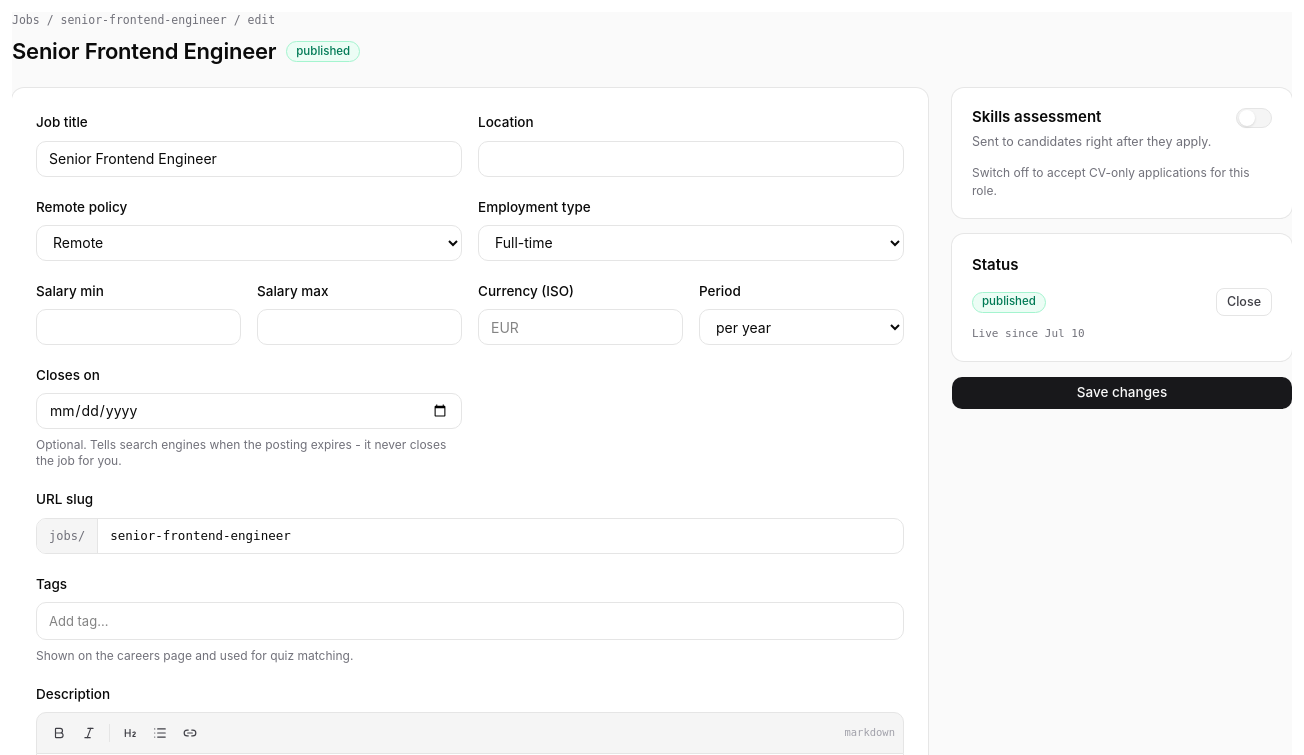
EditJobPage › closes a published job from the status card and reloads
The width and height of the screenshot is (1304, 755).
Expected: the heading "Senior Frontend Engineer" is shown, [12,35,276,68]
Click the button "Close" at x=1244, y=302, box [1216,288,1272,316]
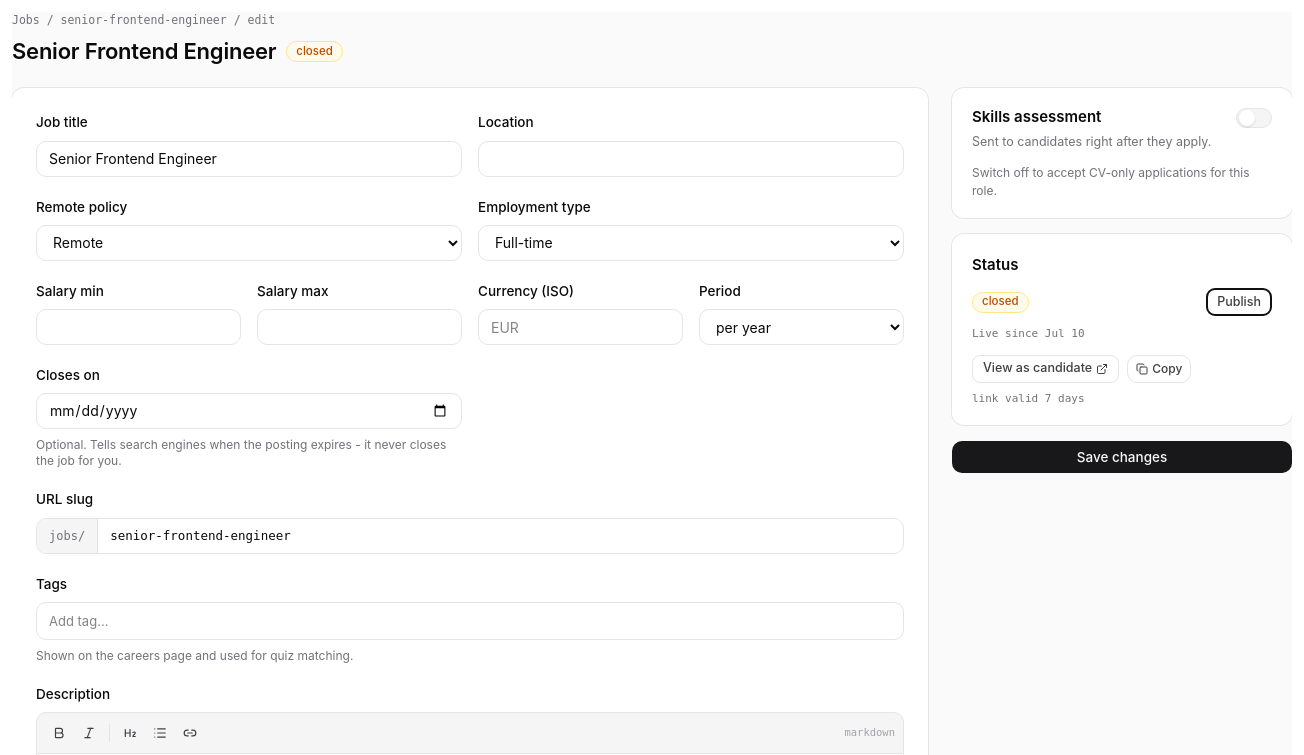
Result: the button "Publish" is shown at [1206,288,1272,316]
